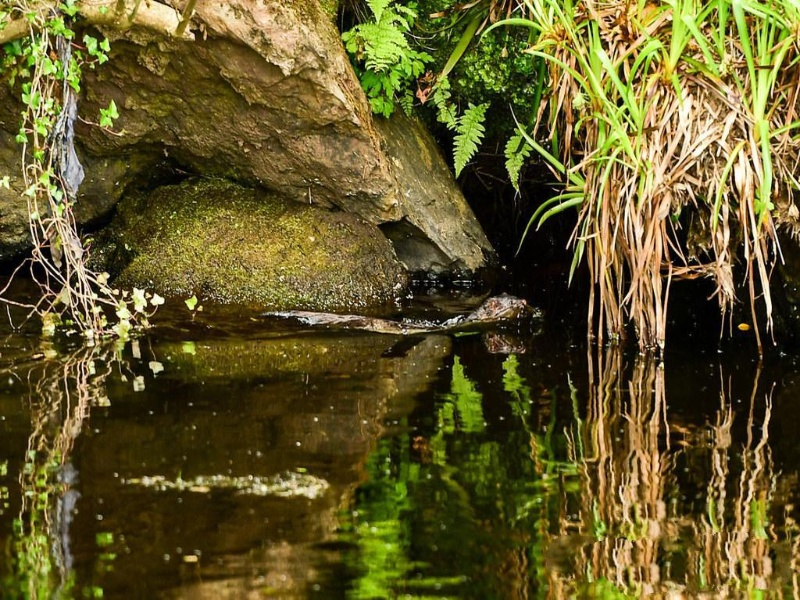minkish: (264, 295, 533, 336)
